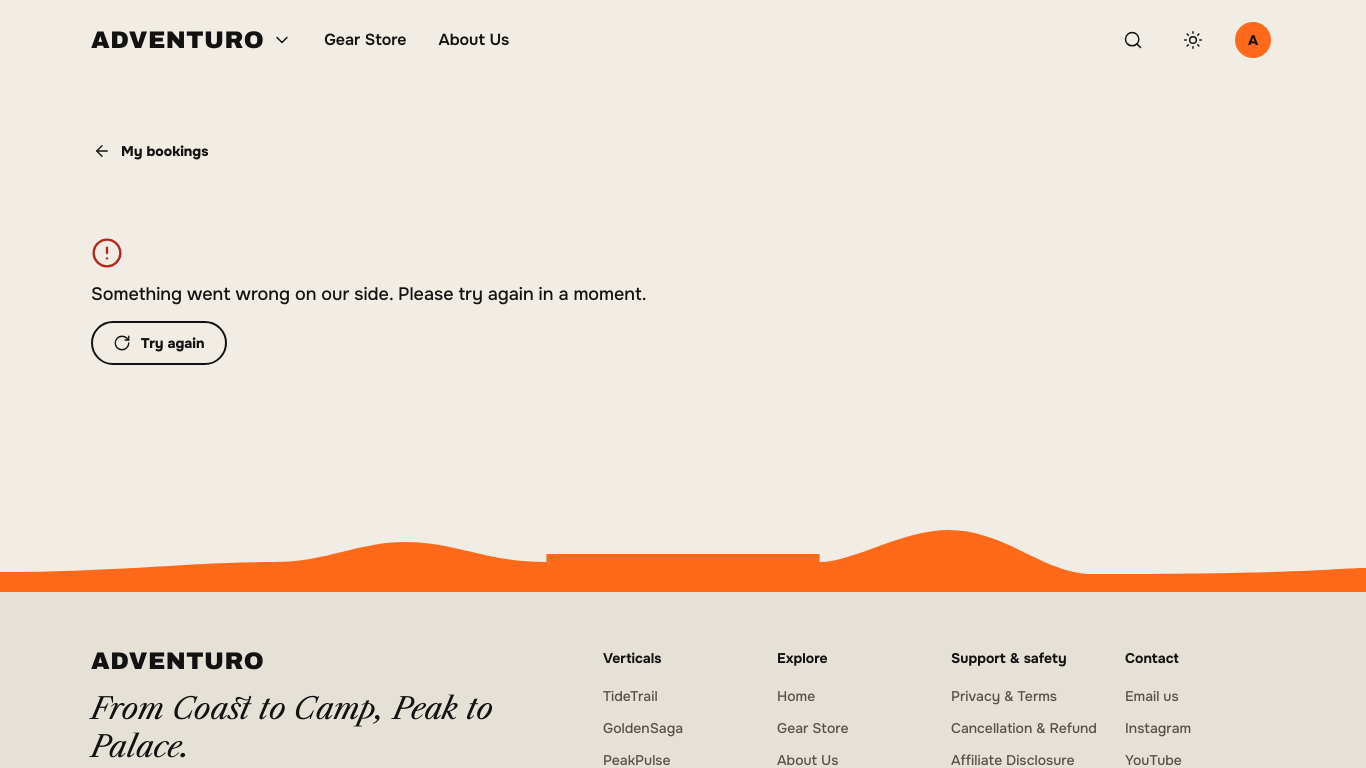
Test: TicketPage › shows an error with a retry when the booking fails to load
Expected: the message shows "Something went wrong on our side.", [91,283,646,305]
Click the button "Try again" at (159, 343), box [91,321,226,365]
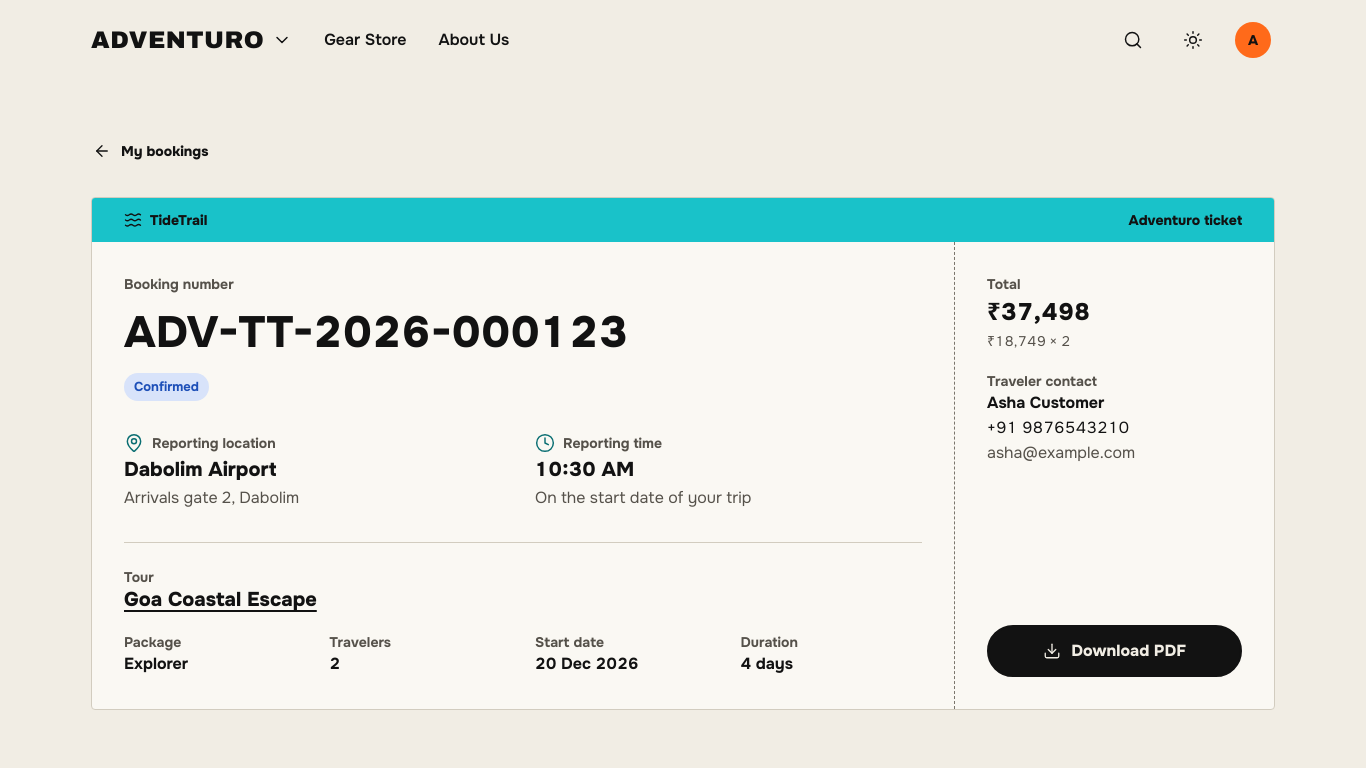
Now the heading "ADV-TT-2026-000123" is shown, box [124,306,628,361]
